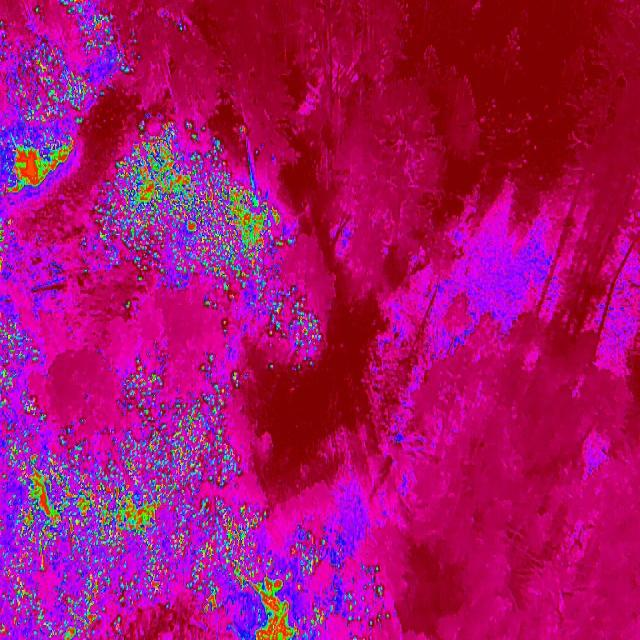fire: (3, 426, 267, 596), (98, 120, 288, 312), (288, 524, 400, 636), (56, 0, 140, 79), (12, 39, 87, 123), (0, 594, 132, 640), (266, 286, 324, 373), (2, 134, 75, 198), (116, 354, 170, 420), (249, 572, 297, 640), (166, 390, 234, 430), (0, 320, 38, 374), (200, 350, 227, 400), (20, 388, 50, 424), (75, 232, 96, 276), (227, 365, 255, 393), (0, 216, 14, 272), (0, 363, 17, 408), (199, 592, 222, 616), (0, 20, 8, 64), (219, 317, 229, 335), (31, 3, 42, 18)
